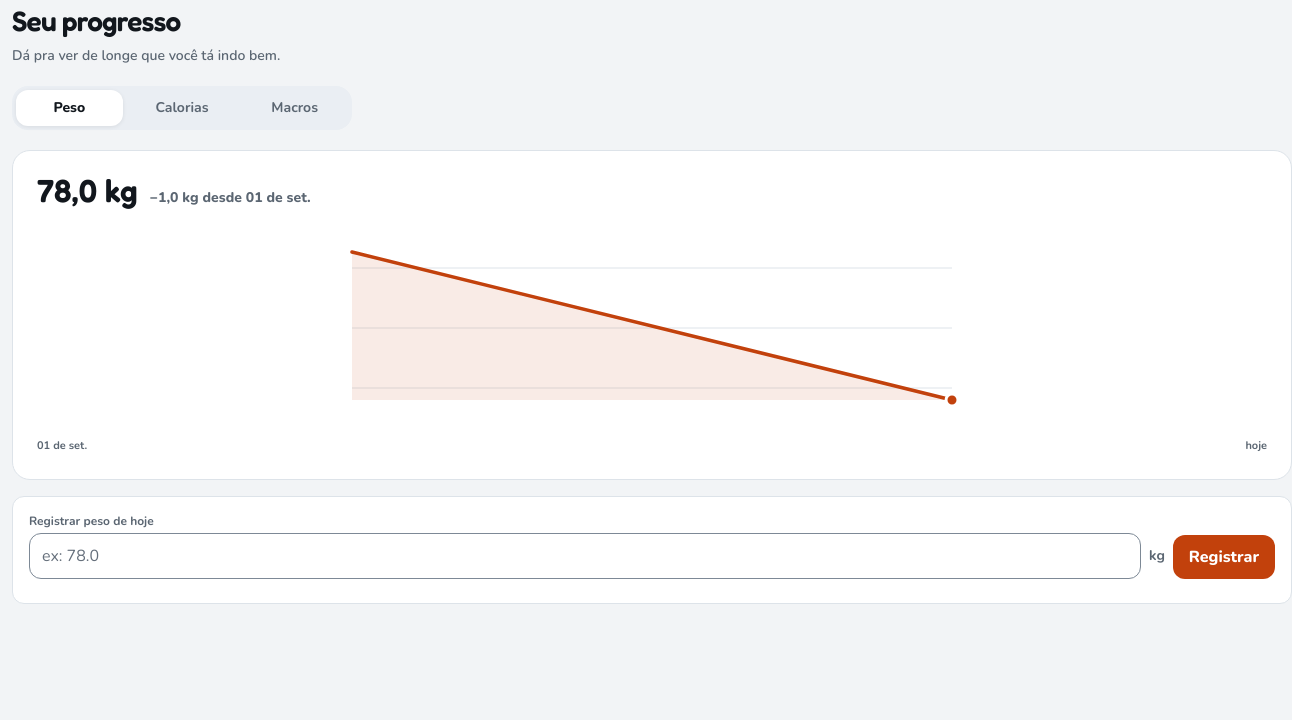
Scenario: ProgressPage weight form › refuses an empty weight and sends nothing
Click the button "Registrar".
click(1224, 556)  # box 1173,534 -> 1275,578
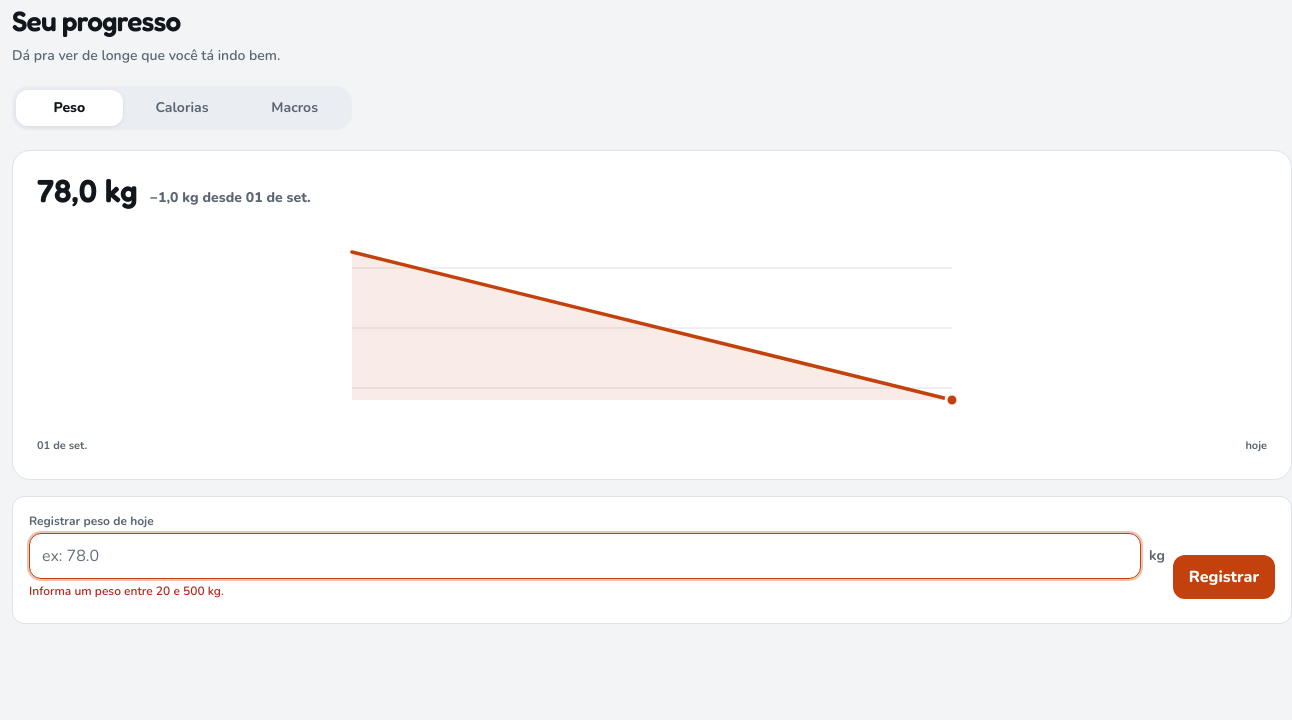
Check: the message reads "Informa um peso entre 20 e 500 kg.", box 29,582 -> 224,598
